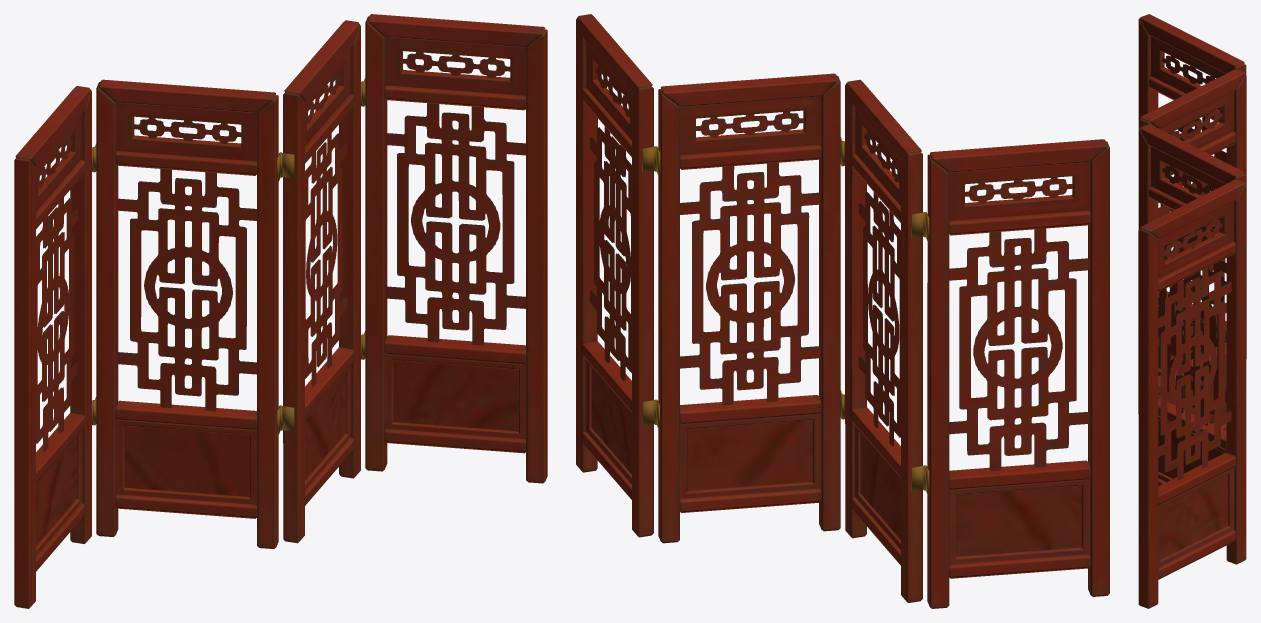
3 renders of one model, left to right at view 1: azimuth 30°, elevation 25°; view 2: azimuth 150°, elevation 25°; view 3: azimuth 270°, elevation 25°, orthographic. The views are drawn at different scales.
Size of the model in its own units: 19.77 by 16 by 4.14.
1 material, 1 textured.
